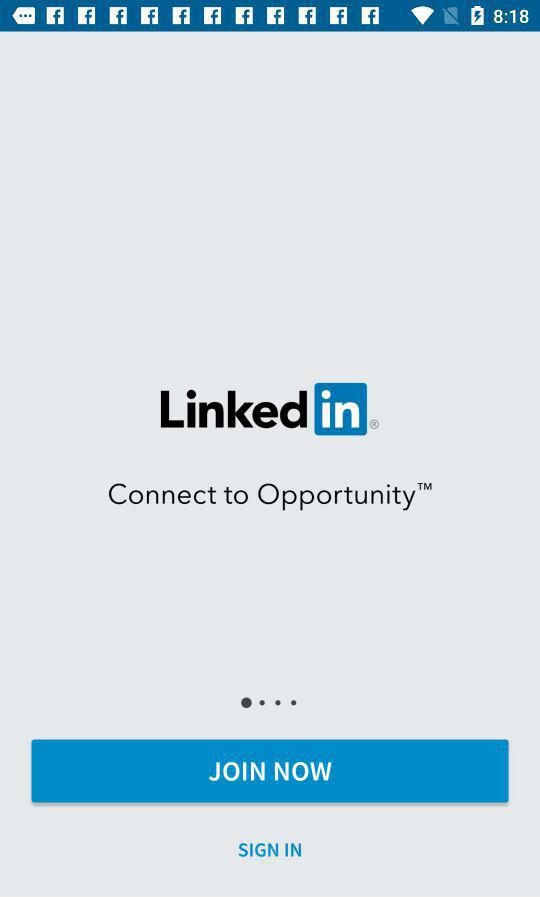Image: (160, 382, 380, 437)
PageIndicator: (240, 697, 298, 710)
Text: (108, 482, 434, 513), (238, 842, 302, 858)
TextButton: (32, 739, 509, 803)
UpperTaskBar: (1, 1, 540, 33)
